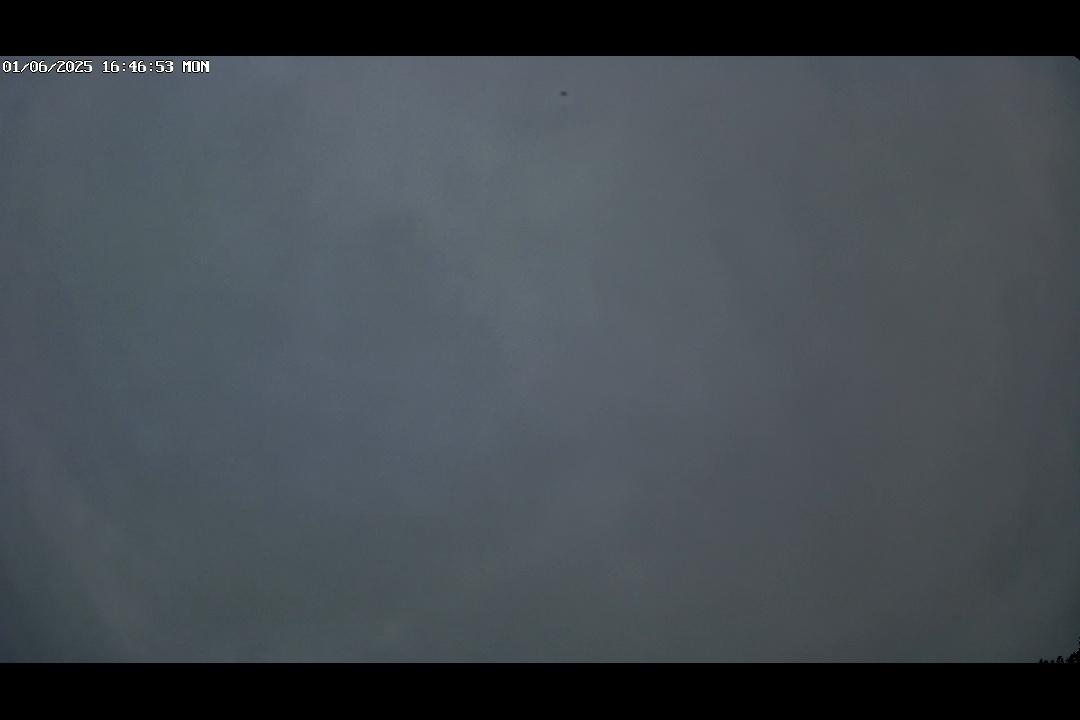WildLife: (553, 83, 576, 101)
